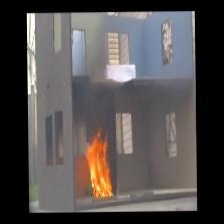fire: (80, 129, 113, 200)
